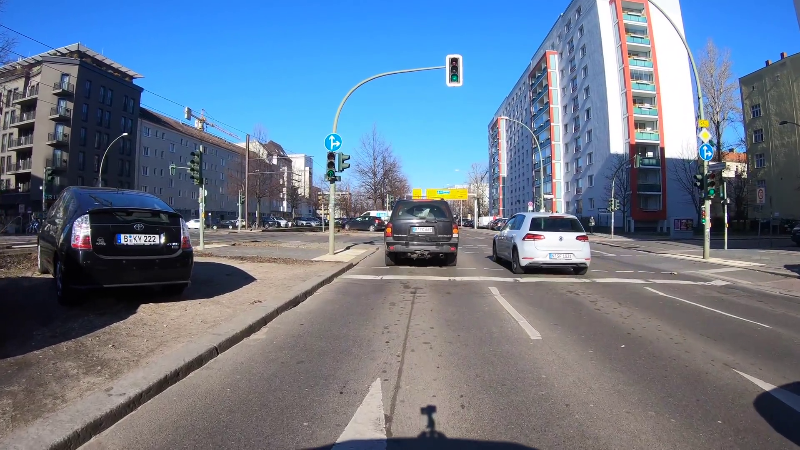Plate: (113, 233, 160, 245), (547, 252, 572, 259), (411, 226, 434, 232)
